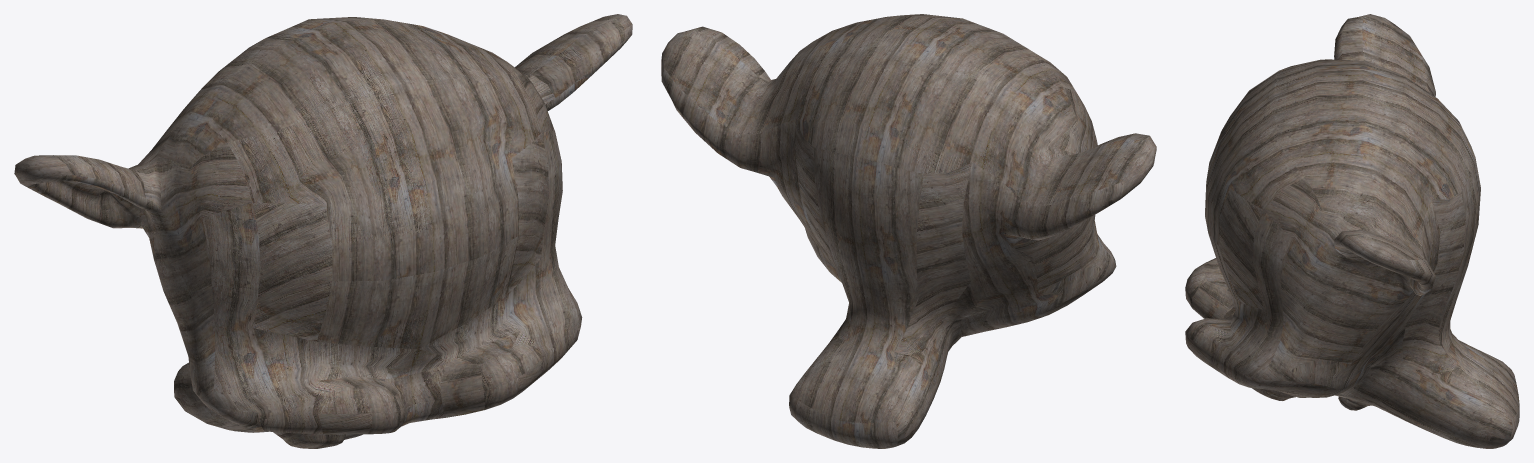
Rendered from sign.glb.
3 views of the same model, side by side, from view 1: azimuth 30°, elevation 25°; view 2: azimuth 150°, elevation 25°; view 3: azimuth 270°, elevation 25° (orthographic). The views are drawn at different scales.
Parts seen in each view (by area): view 1: Suzanne; view 2: Suzanne; view 3: Suzanne.
Part boxes in pixels (bbox=[...]): Suzanne: bbox=[14, 14, 632, 448]; Suzanne: bbox=[661, 14, 1156, 448]; Suzanne: bbox=[1185, 14, 1519, 448].
Bounding box in the file's own units: 2.65 × 1.91 × 1.59.
1 material, 1 textured.
